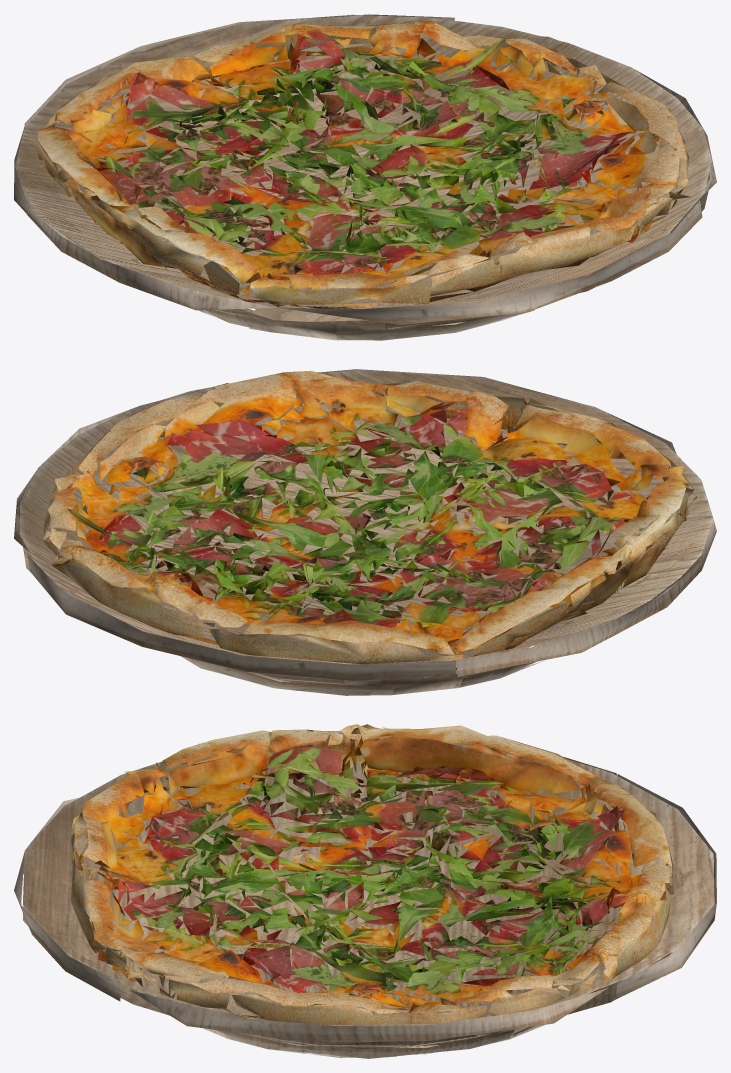
Rendered from pizza.glb.
3 renders of one model, top to bottom at view 1: azimuth 30°, elevation 25°; view 2: azimuth 150°, elevation 25°; view 3: azimuth 270°, elevation 25°, orthographic.
Visible parts, largest first — view 1: pizza_pizza_0, Tarelka001__0; view 2: pizza_pizza_0, Tarelka001__0; view 3: pizza_pizza_0, Tarelka001__0.
Part boxes in pixels (box(x1,y1,x2,y2)): pizza_pizza_0: box(35, 20, 690, 308); Tarelka001__0: box(14, 14, 716, 340); pizza_pizza_0: box(43, 370, 697, 669); Tarelka001__0: box(14, 369, 716, 695); pizza_pizza_0: box(69, 724, 673, 1025); Tarelka001__0: box(14, 731, 716, 1058).
Bounding box in the file's own units: 0.6011 × 0.1045 × 0.6009.
Materials: 2 (2 with a texture image).
